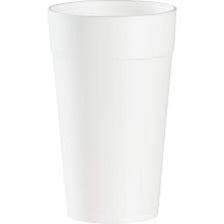paper_cup: (41, 0, 180, 224)
